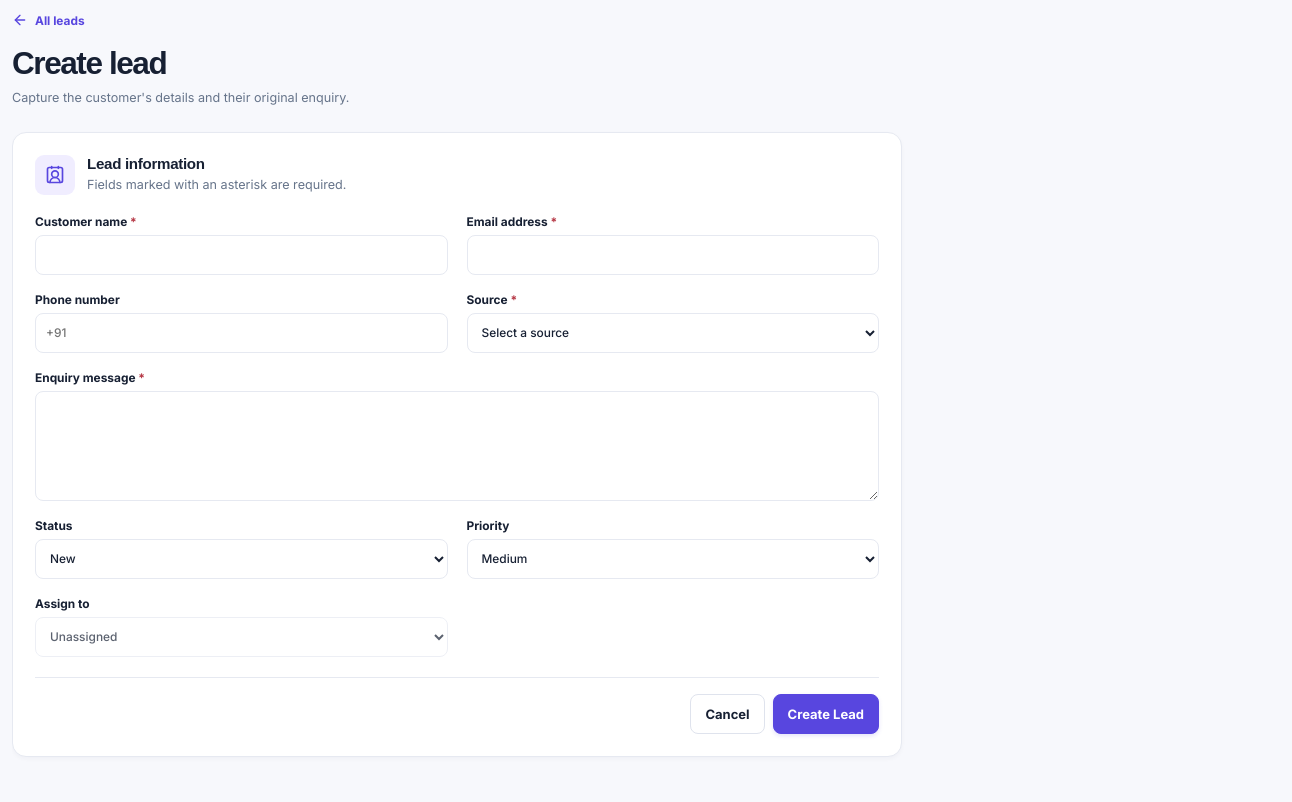
lead workflow › keeps incomplete enquiries local and marks invalid fields
Type "invalid email" into the field labelled "Email address" at {"x": 673, "y": 255}, box x1=466 y1=235 x2=879 y2=275
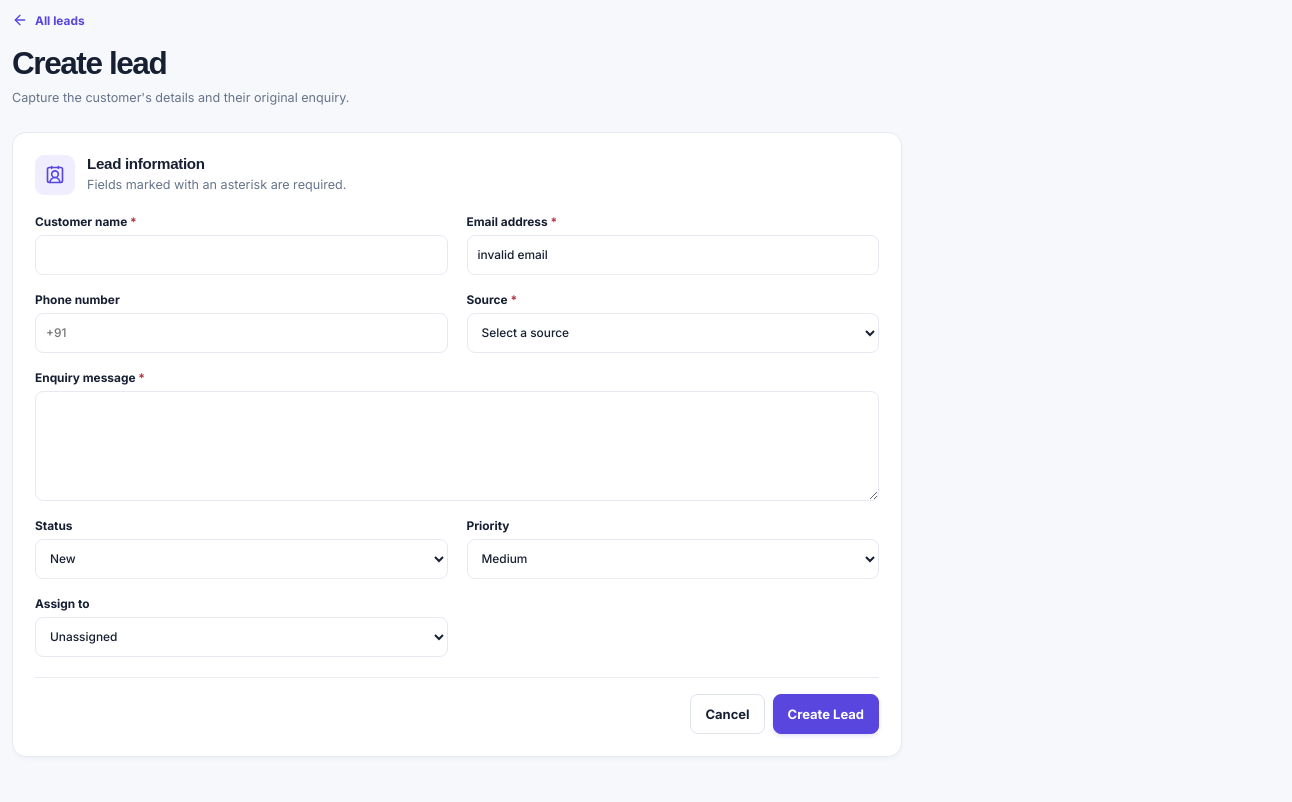
Click the button "Create Lead" at {"x": 826, "y": 714}, box x1=773 y1=694 x2=879 y2=734
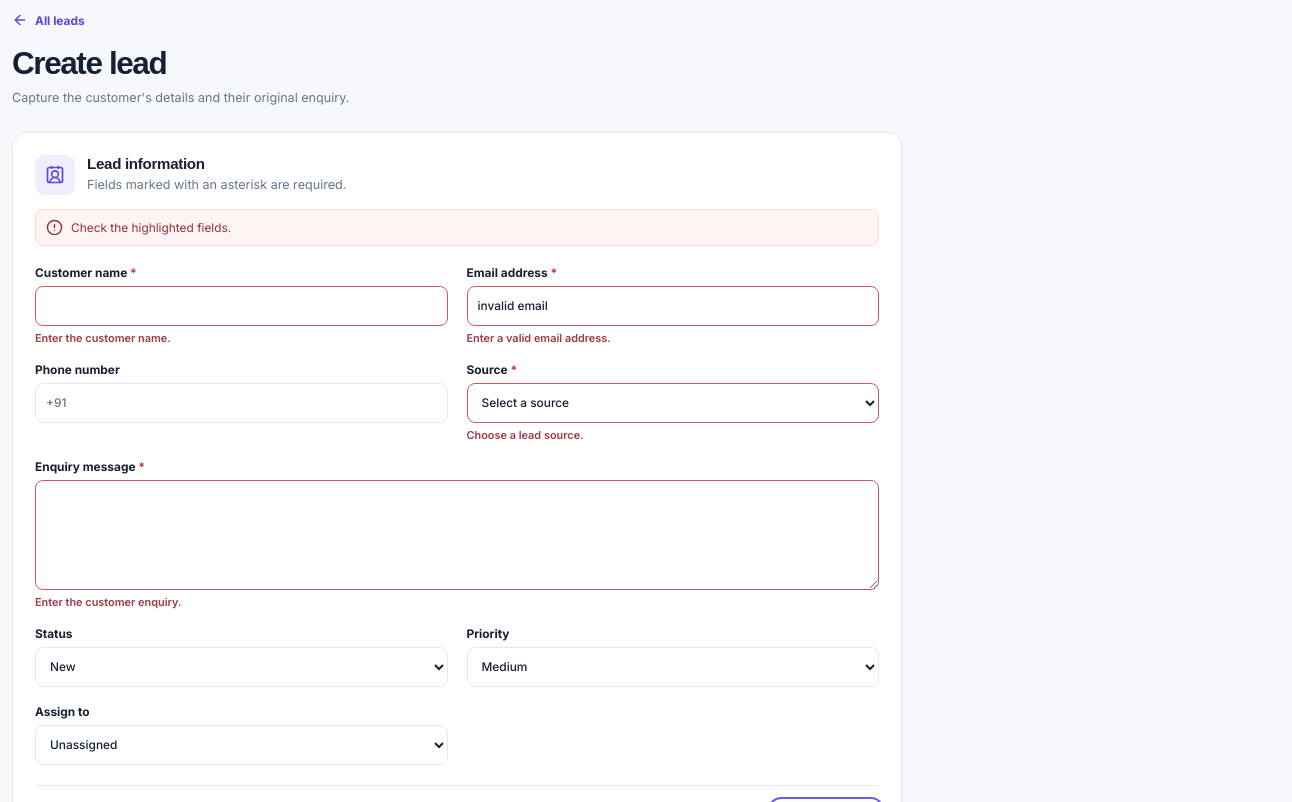
Expected: the message reads "Check the highlighted fields.", x1=71 y1=220 x2=231 y2=235
